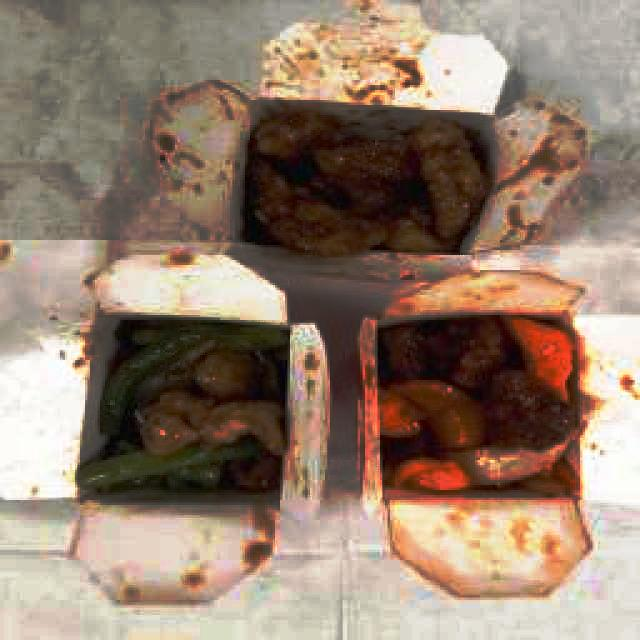Beijing Beef: (377, 312, 581, 494)
Kung Pao Chicken: (243, 102, 494, 259)
